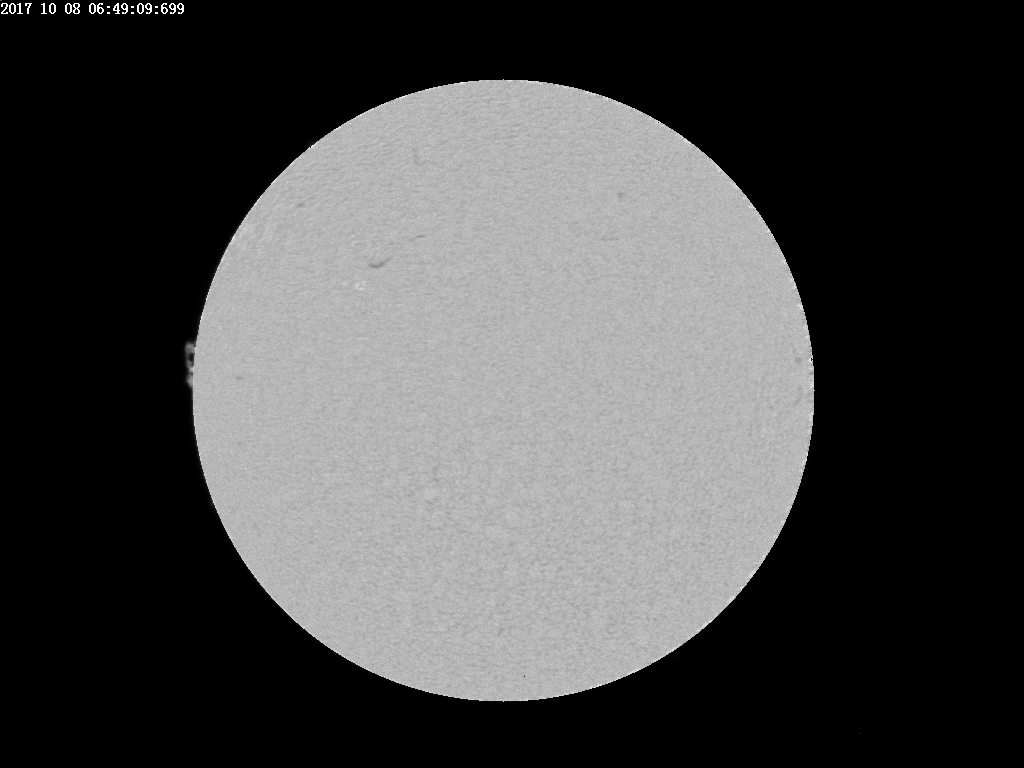filament: (367, 224, 429, 270), (402, 139, 461, 178), (290, 196, 315, 212), (228, 364, 246, 386), (593, 225, 619, 240), (608, 186, 629, 204)
